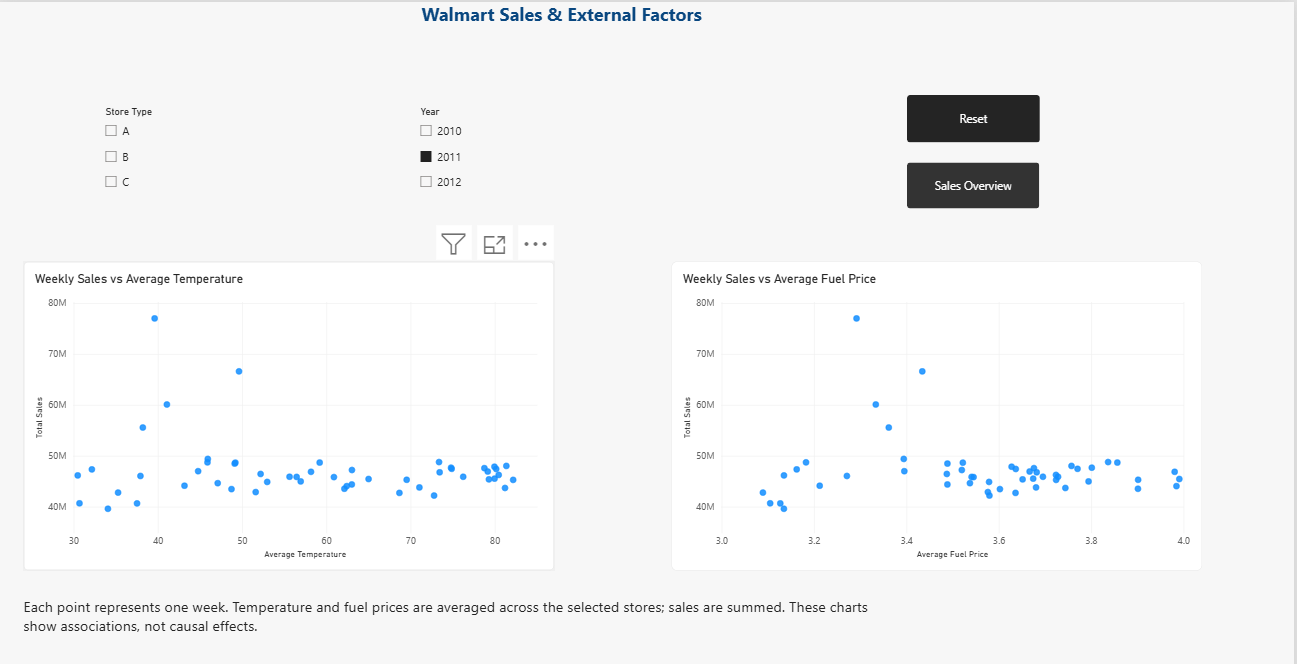

The page's visual inventory and layout, read from the dashboard file:
{"tool":"powerbi","page":{"name":"External Factors","canvas":[1920,1080],"ordinal":6},"visuals":[{"type":"slicer","fields":{"Values":["Stores.Store Type"]},"box":[150,154,244,164],"z":0},{"type":"slicer","fields":{"Values":["Date Table.Year"]},"box":[618,154,122,140],"z":1000},{"type":"scatterChart","title":"Weekly Sales vs Average Temperature","fields":{"Category":["Date Table.Date"],"X":["Features.Average Temperature"],"Y":["Sales.Total Sales"]},"box":[37.5,384.5,786,458],"z":2000},{"type":"scatterChart","title":"Weekly Sales vs Average Fuel Price","fields":{"Category":["Date Table.Date"],"X":["Features.Average Fuel Price"],"Y":["Sales.Total Sales"]},"box":[998.7,384.5,786,458],"z":3000},{"type":"textbox","box":[0,0,1670,56],"z":4000},{"type":"textbox","box":[38,880,1262,78],"z":5000},{"type":"actionButton","box":[1345.7,138.3,196.9,70.3],"z":6000},{"type":"actionButton","box":[1345.7,236.8,196,68],"z":6001}]}

Visuals, with their boxes on the page's 1920x1080 design canvas (x1, y1, x2, y2). These are canvas units, not pixel positions in the 1297x664 screenshot, which may show the page scaled, cropped or inside an application window:
slicer - Stores.Store Type: bbox=(150, 154, 394, 318)
slicer - Date Table.Year: bbox=(618, 154, 740, 294)
"Weekly Sales vs Average Temperature" scatterChart: bbox=(38, 384, 824, 842)
"Weekly Sales vs Average Fuel Price" scatterChart: bbox=(999, 384, 1785, 842)
textbox: bbox=(0, 0, 1670, 56)
textbox: bbox=(38, 880, 1300, 958)
actionButton: bbox=(1346, 138, 1543, 209)
actionButton: bbox=(1346, 237, 1542, 305)
